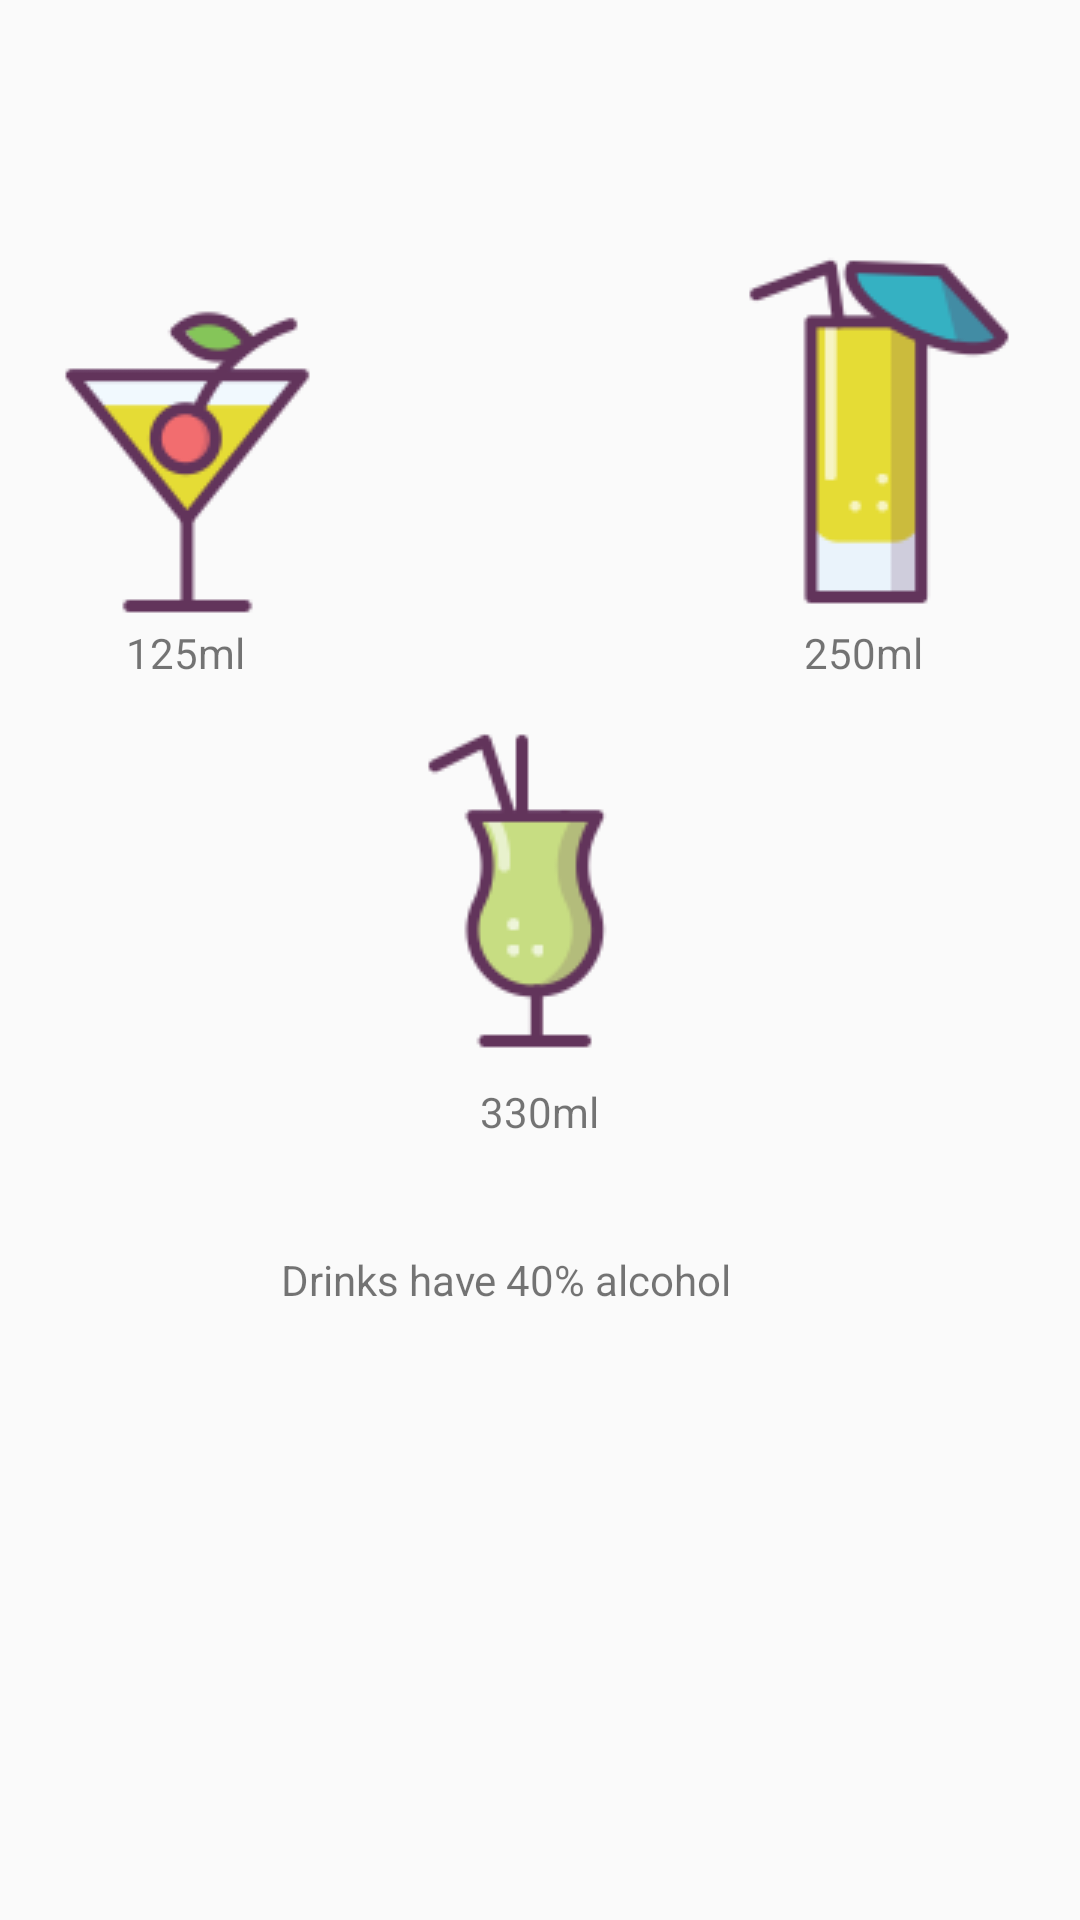

Where icons sit on this 1080*1920 app screen, as (x1, y1, x2, y2):
drinks: (749, 260, 1009, 604), (65, 311, 310, 613), (428, 734, 605, 1048)
